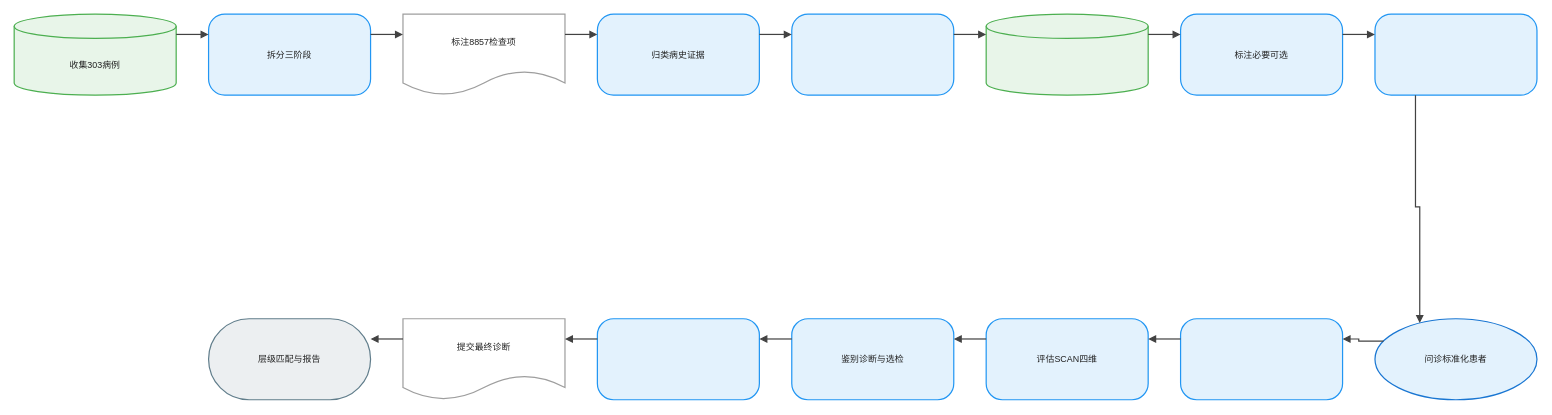
The diagram is 1552 pixels wide and 415 high, and some of its shapes have lost their labels. Each missing label, with the centre of its shape:
"定义38类检查" goes at point 1066,54.
"映射ICD-10" goes at point 1455,54.
"标注关键等级" goes at point 872,54.
"核验OSCE关键点" goes at point 1261,359.
"计算加权F1" goes at point 678,359.
